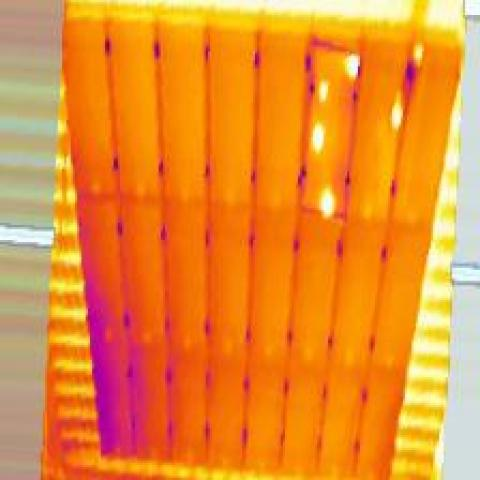fault: (386, 86, 405, 139), (315, 182, 339, 223), (339, 47, 364, 86), (304, 114, 326, 154), (407, 34, 429, 71), (315, 73, 332, 109)
